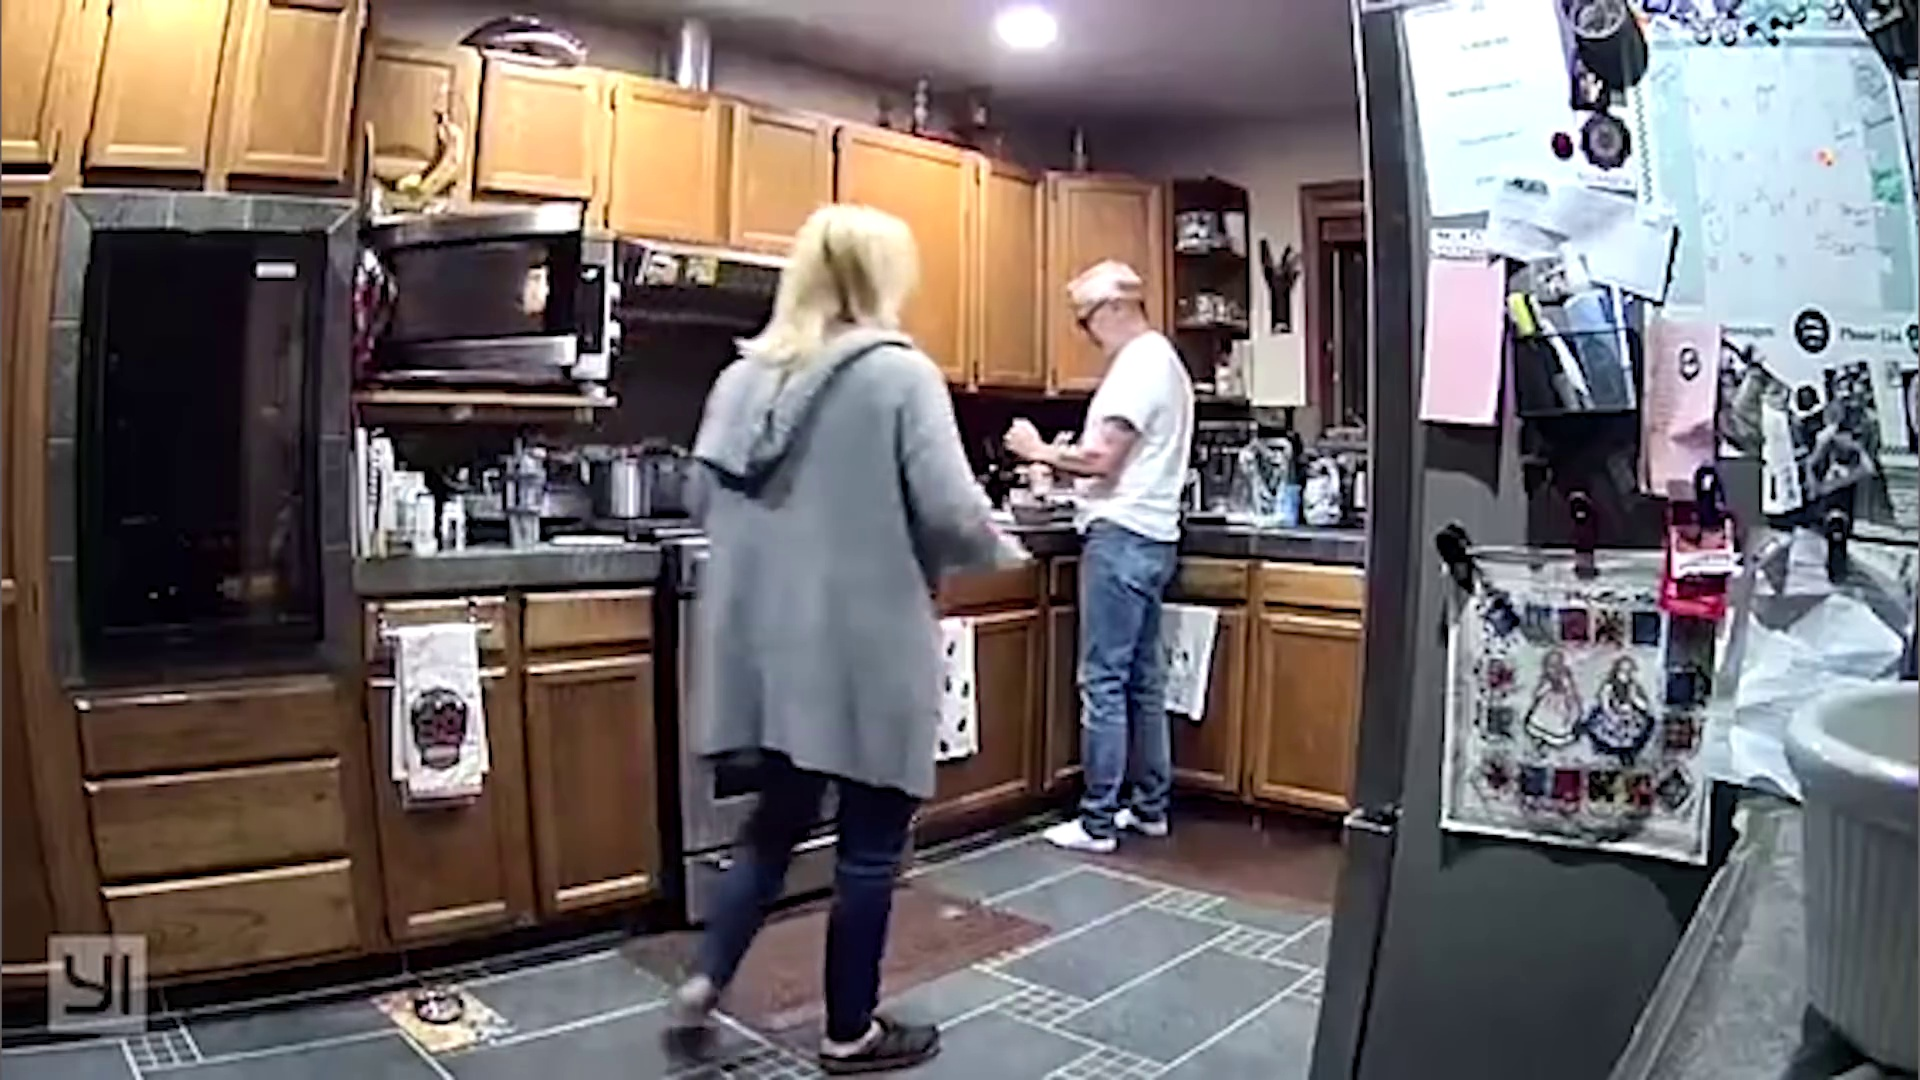face: (1074, 289, 1128, 352)
